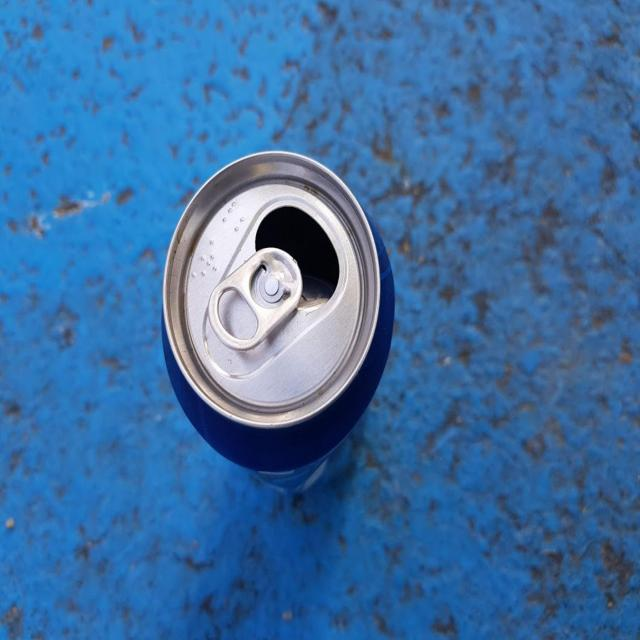can: (162, 151, 395, 493)
